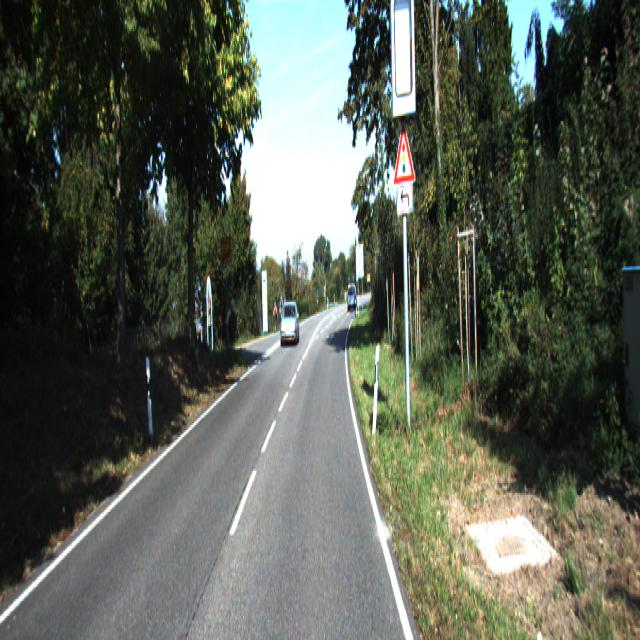Car: (280, 300, 300, 346)
